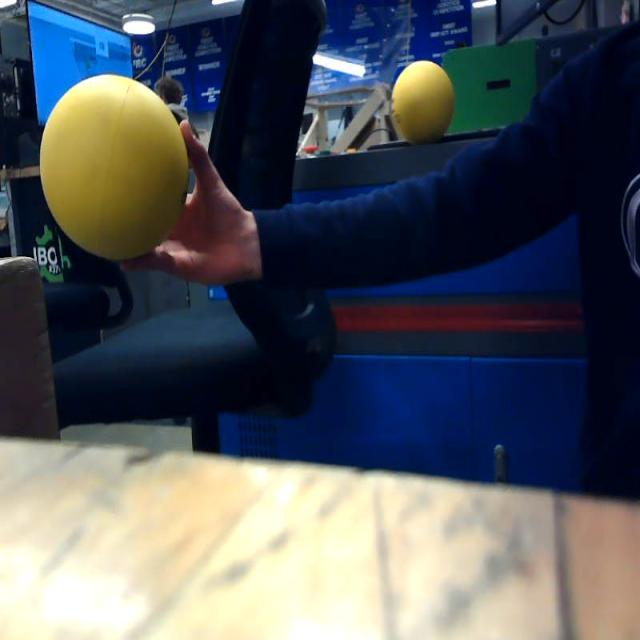Fuel: (39, 74, 190, 261), (392, 60, 454, 146)
